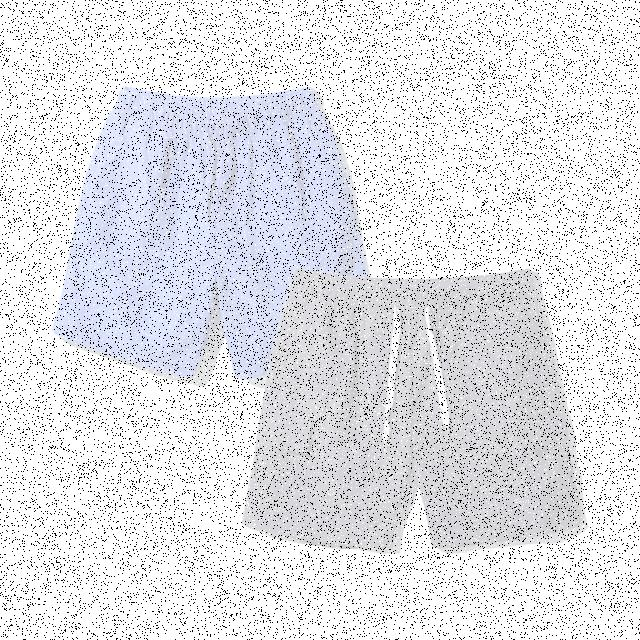dress: (247, 280, 592, 548)
